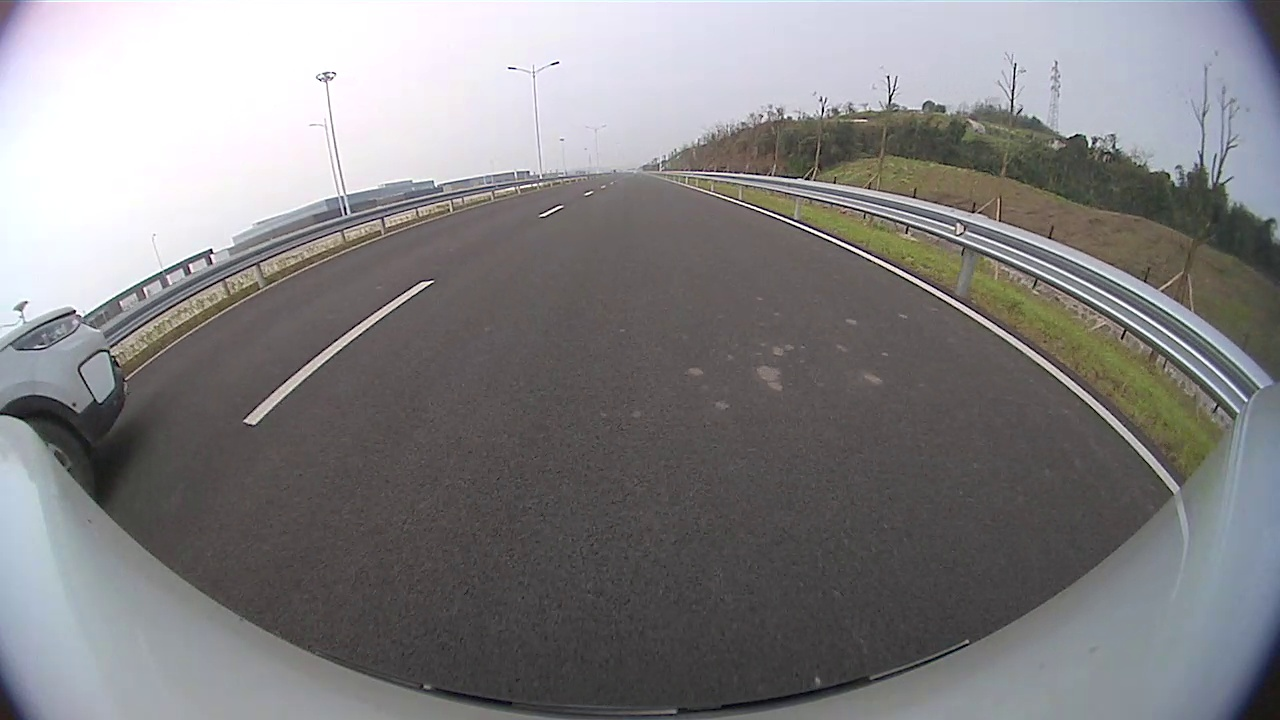car: (3, 304, 129, 505)
